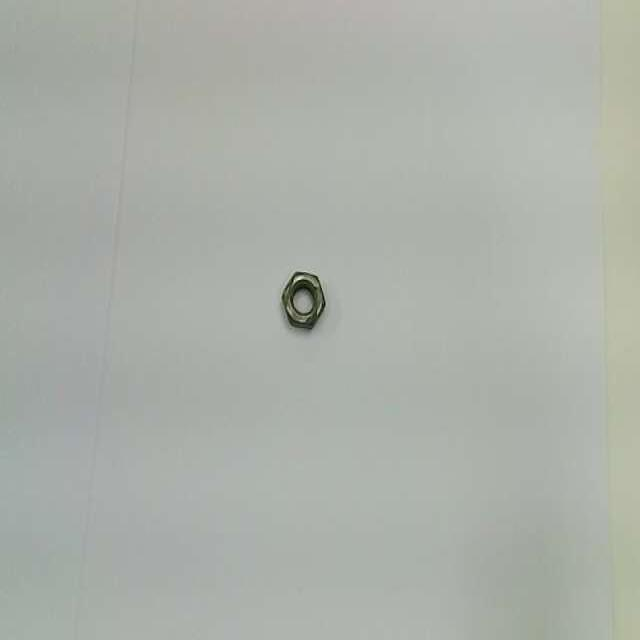Porca: (283, 272, 324, 328)
